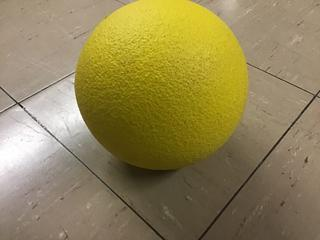power_cell: (70, 1, 250, 169)
